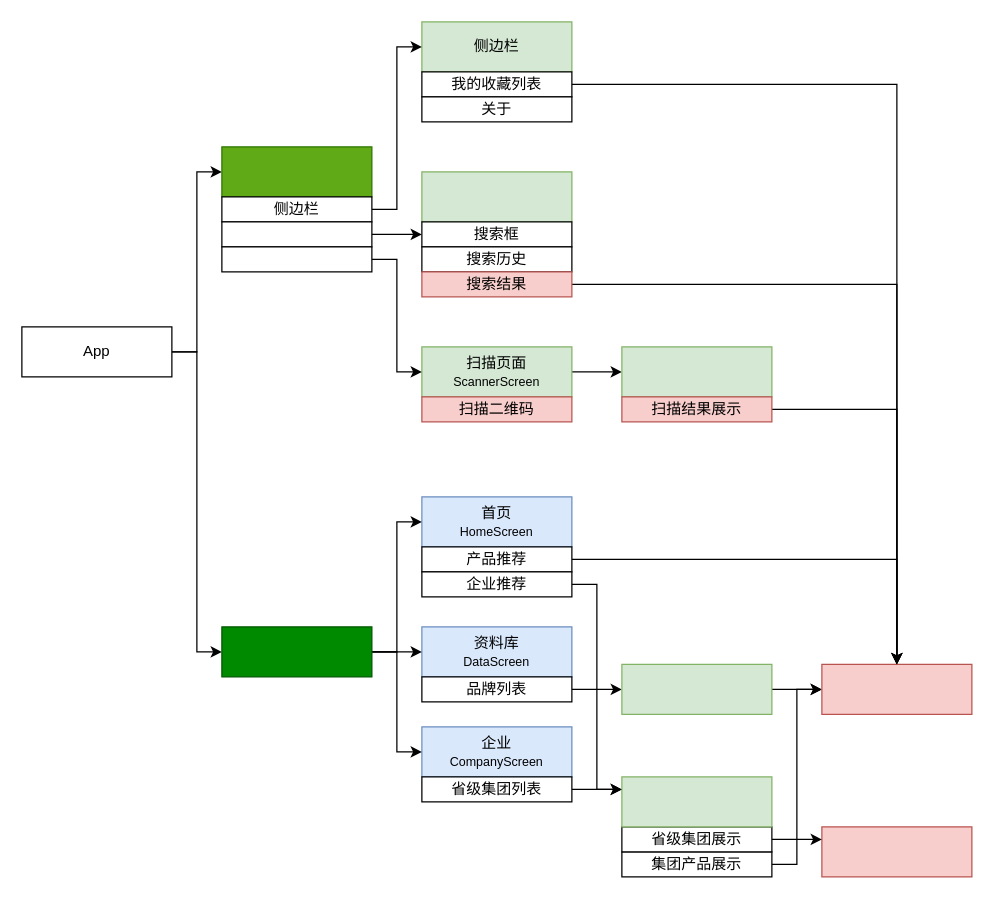
This 994x899 diagram has some shape labels left out. Each missing label, with the centre of its shape:
下属企业展示 ModalBottomSheet: the point at 896,851
产品展示 ProductShowScreen: the point at 896,688
品牌产品列表 BrandListScreen: the point at 696,688
底部导航: the point at 296,651
扫描: the point at 296,259
扫描结果 ScannerResultScreen: the point at 696,371
搜索: the point at 296,234
搜索页面 SearchScreen: the point at 496,196
省级集团展示 GroupShowScreen: the point at 696,801
顶部按钮: the point at 296,171
